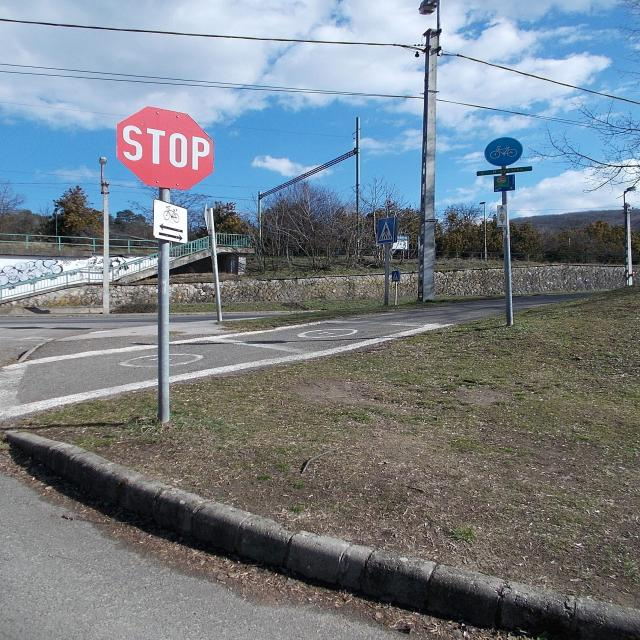stop-sign: (111, 95, 217, 200)
